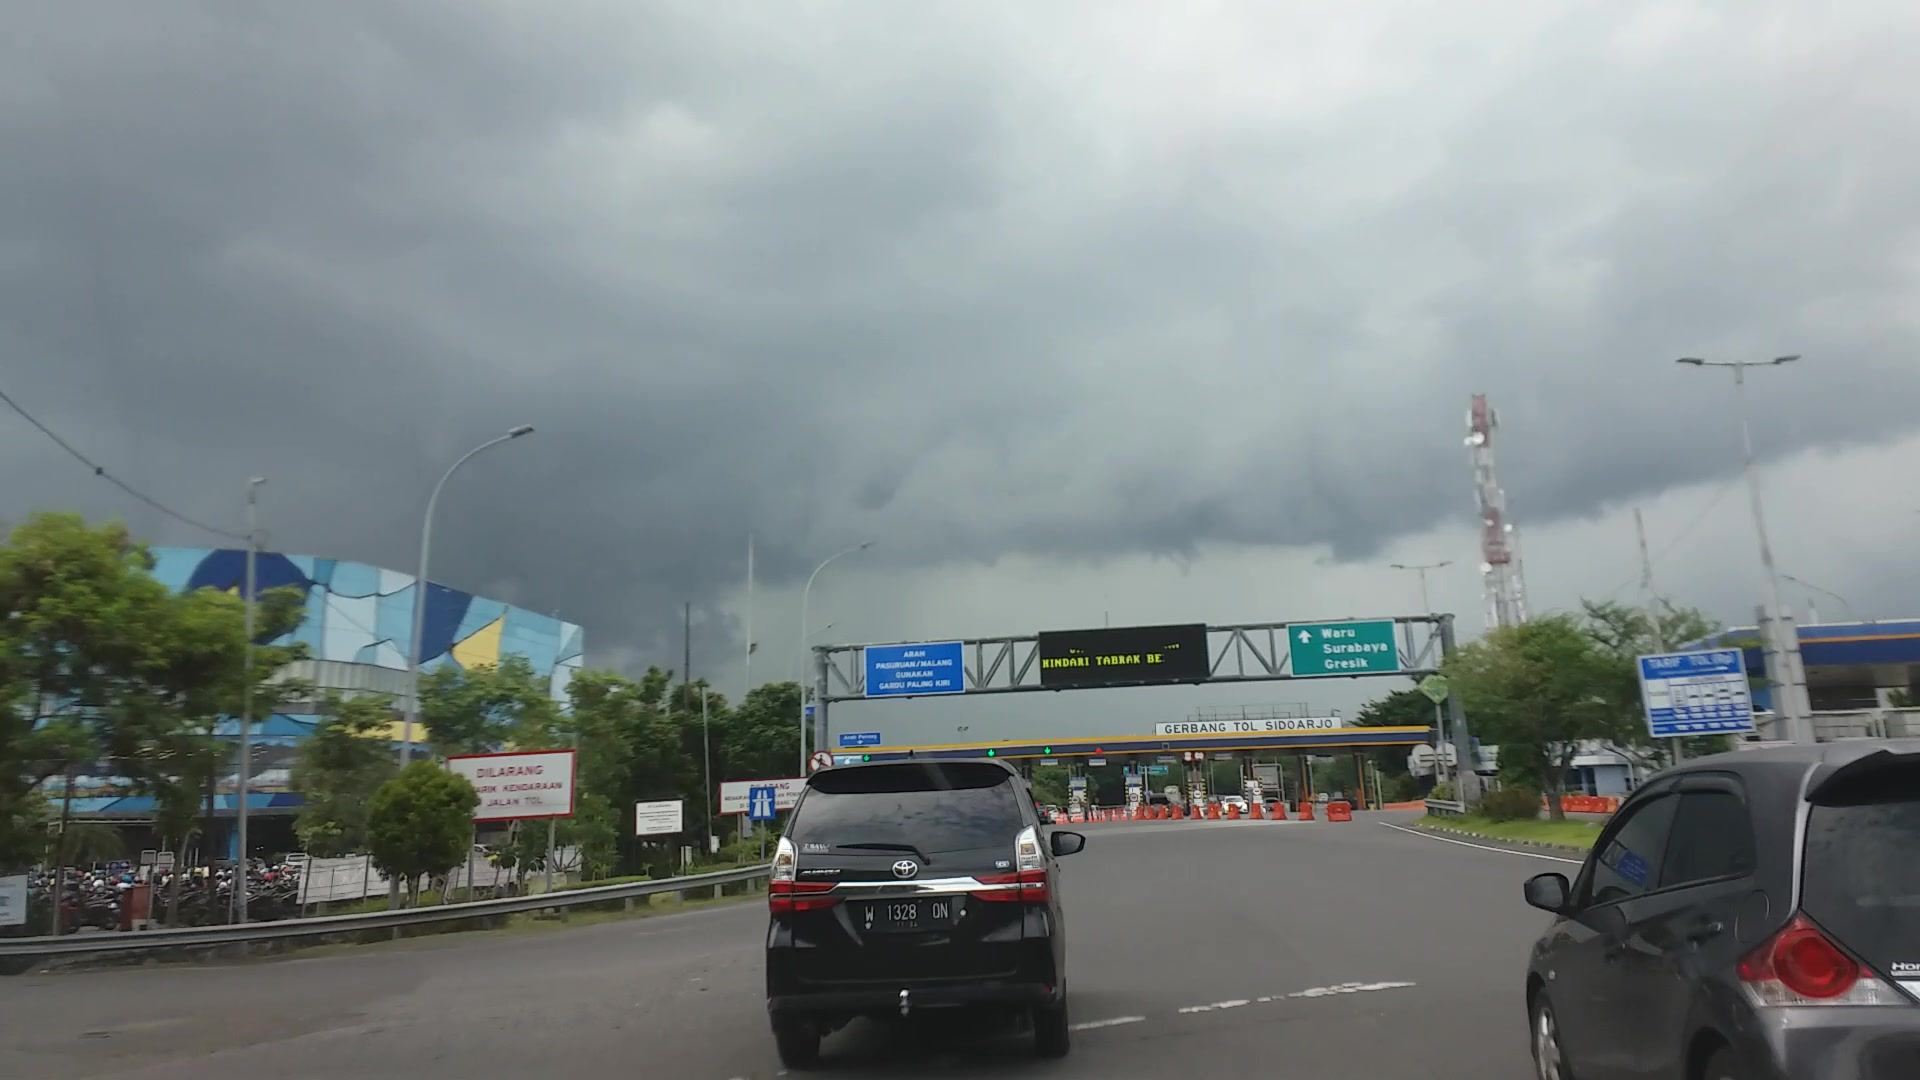plate_positive: (862, 897, 952, 932)
